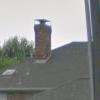Chimney: (28, 10, 56, 64)
